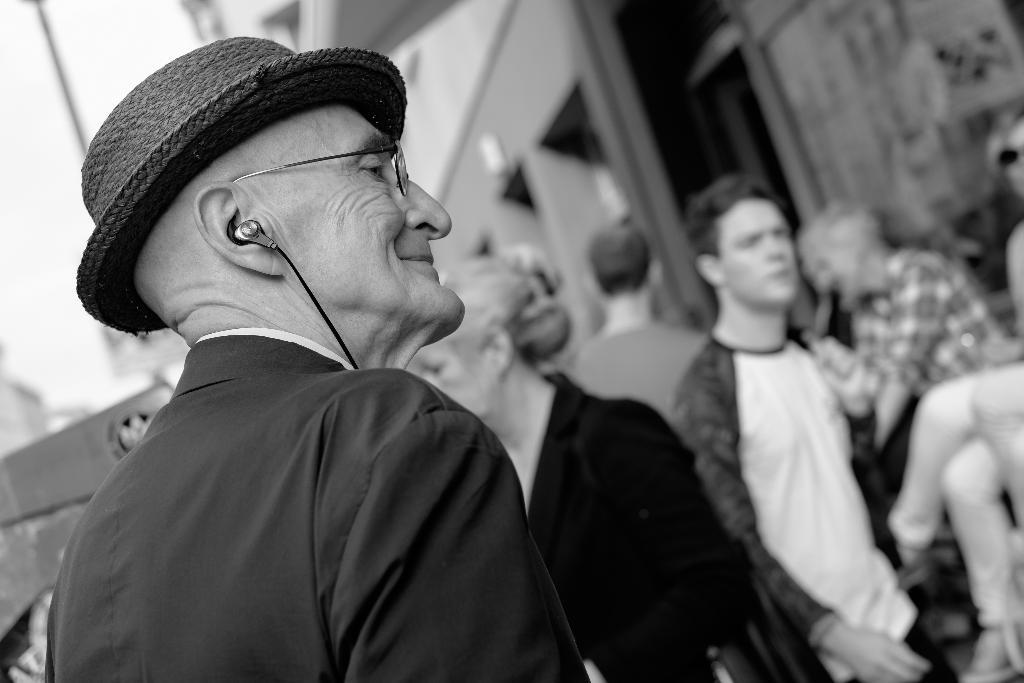Hat: (71, 29, 408, 336)
